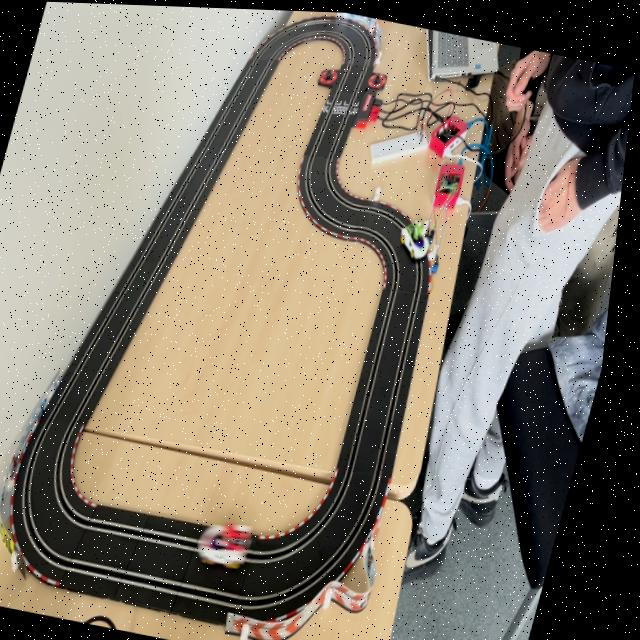mario: (205, 515, 271, 571)
yoshi: (397, 215, 441, 262)
